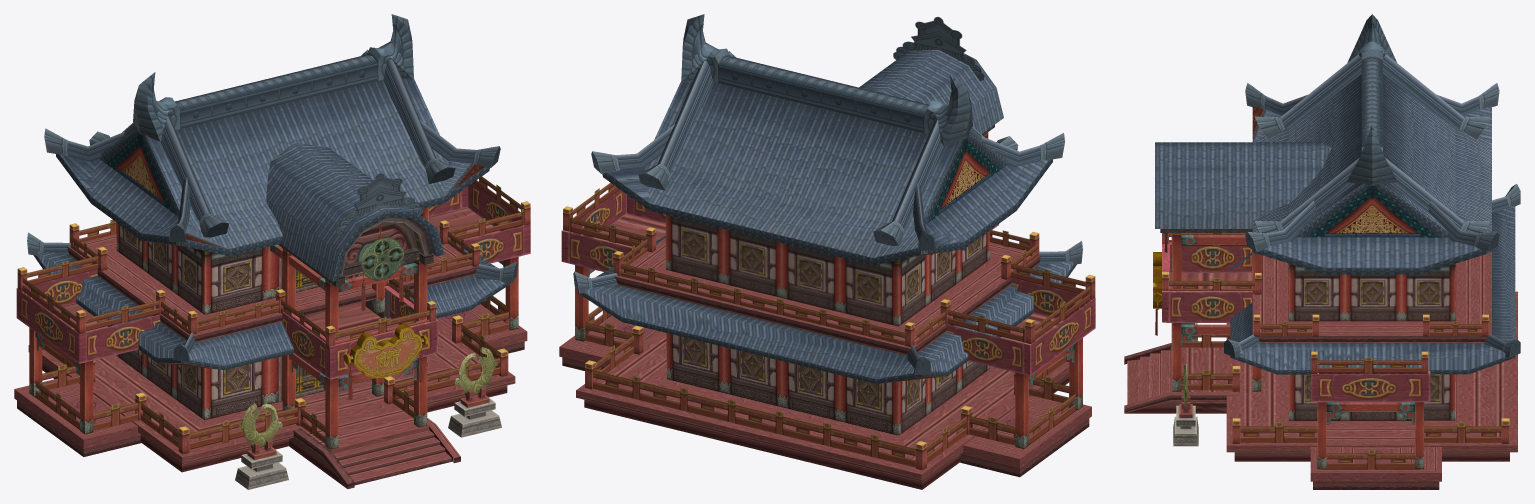
3 renders of one model, left to right at view 1: azimuth 30°, elevation 25°; view 2: azimuth 150°, elevation 25°; view 3: azimuth 270°, elevation 25°, orthographic. The views are drawn at different scales.
Parts seen in each view (by area): view 1: gujian_21, gujian_22, gujian_16, gujian_20, gujian_19, gujian_17, gujian_23, gujian_18, gujian_15; view 2: gujian_22, gujian_21, gujian_19, gujian_16, gujian_20, gujian_18, gujian_23, gujian_15; view 3: gujian_22, gujian_21, gujian_16, gujian_19, gujian_20, gujian_23, gujian_18, gujian_17.
Boxes of the visible parts, x1,y1,x2,y2 form: gujian_21: (14, 176, 527, 488); gujian_22: (33, 79, 513, 370); gujian_16: (27, 14, 517, 361); gujian_20: (16, 183, 530, 454); gujian_19: (116, 207, 433, 420); gujian_17: (235, 225, 501, 489); gujian_23: (106, 134, 489, 449); gujian_18: (29, 212, 518, 434); gujian_15: (336, 173, 423, 234); gujian_22: (577, 50, 1076, 383); gujian_21: (559, 182, 1091, 489); gujian_19: (665, 125, 994, 435); gujian_16: (573, 14, 1082, 375); gujian_20: (561, 189, 1095, 470); gujian_18: (575, 218, 1082, 448); gujian_23: (602, 132, 1000, 254); gujian_15: (893, 17, 984, 80); gujian_22: (1155, 74, 1515, 374); gujian_21: (1124, 233, 1517, 489); gujian_16: (1224, 14, 1520, 357); gujian_19: (1160, 229, 1455, 420); gujian_20: (1162, 233, 1509, 443); gujian_23: (1171, 185, 1491, 391); gujian_18: (1252, 366, 1423, 469); gujian_17: (1153, 233, 1198, 446).
Bounding box in the file's own units: 1.85 × 1.33 × 1.49.
Materials: 9 (9 with a texture image).
